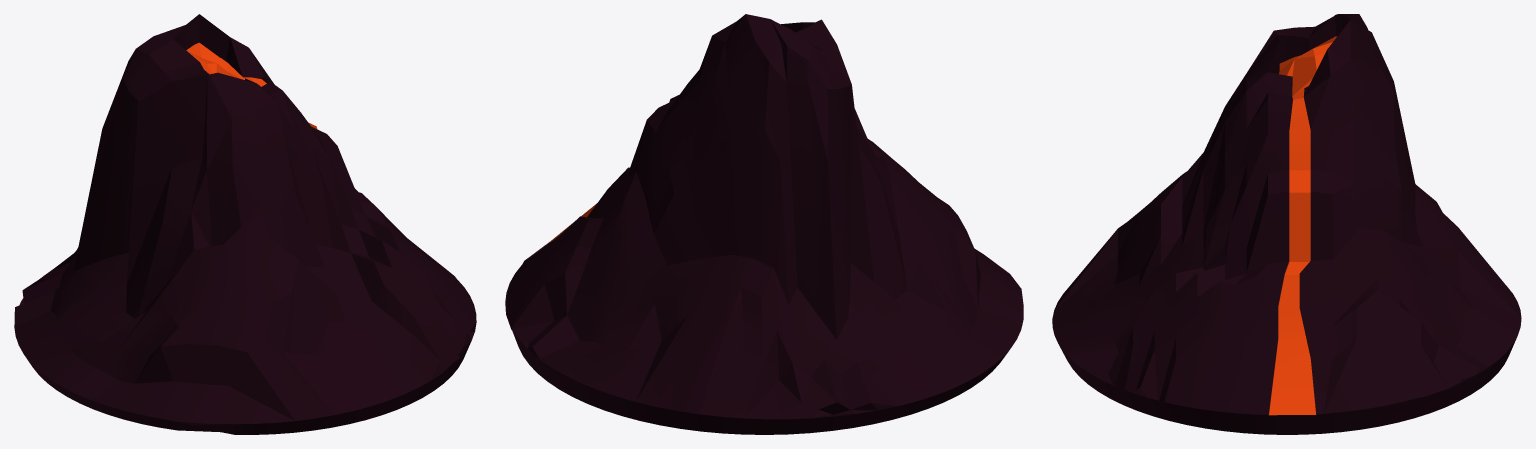
Rendered from volcano.fbx.
The picture shows the model from 3 angles, left to right: view 1: azimuth 30°, elevation 25°; view 2: azimuth 150°, elevation 25°; view 3: azimuth 270°, elevation 25°; orthographic projection. The views are drawn at different scales.
Visible parts, largest first — view 1: Plane; view 2: Plane; view 3: Plane.
Boxes of the visible parts, bbox=[...] form: Plane: bbox=[14, 14, 476, 434]; Plane: bbox=[505, 14, 1023, 434]; Plane: bbox=[1052, 14, 1521, 434].
Size of the model in its own units: 3359 by 2471 by 3359.
